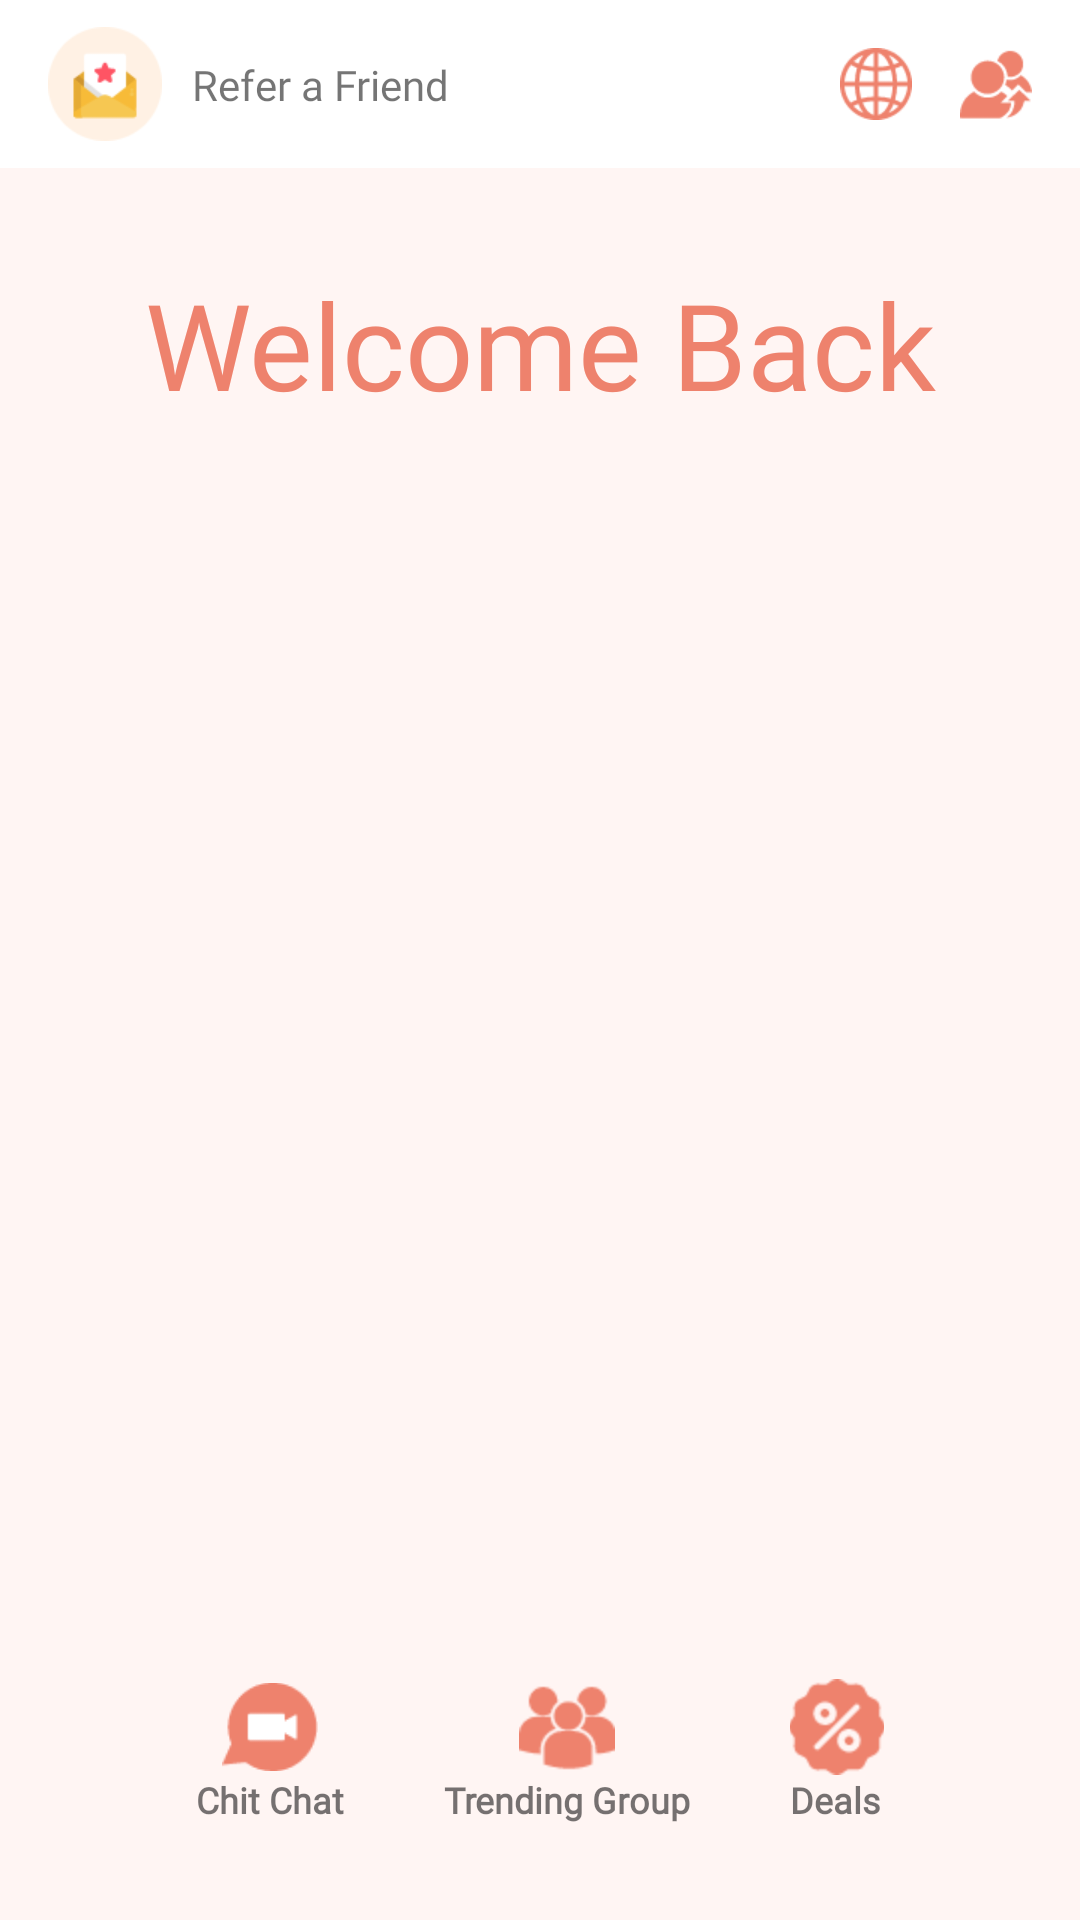

Icons on this 1080 x 1920 Android screen, each with the point to tap as (x,y):
email: (105,84)
percent: (837,1727)
web: (876,84)
